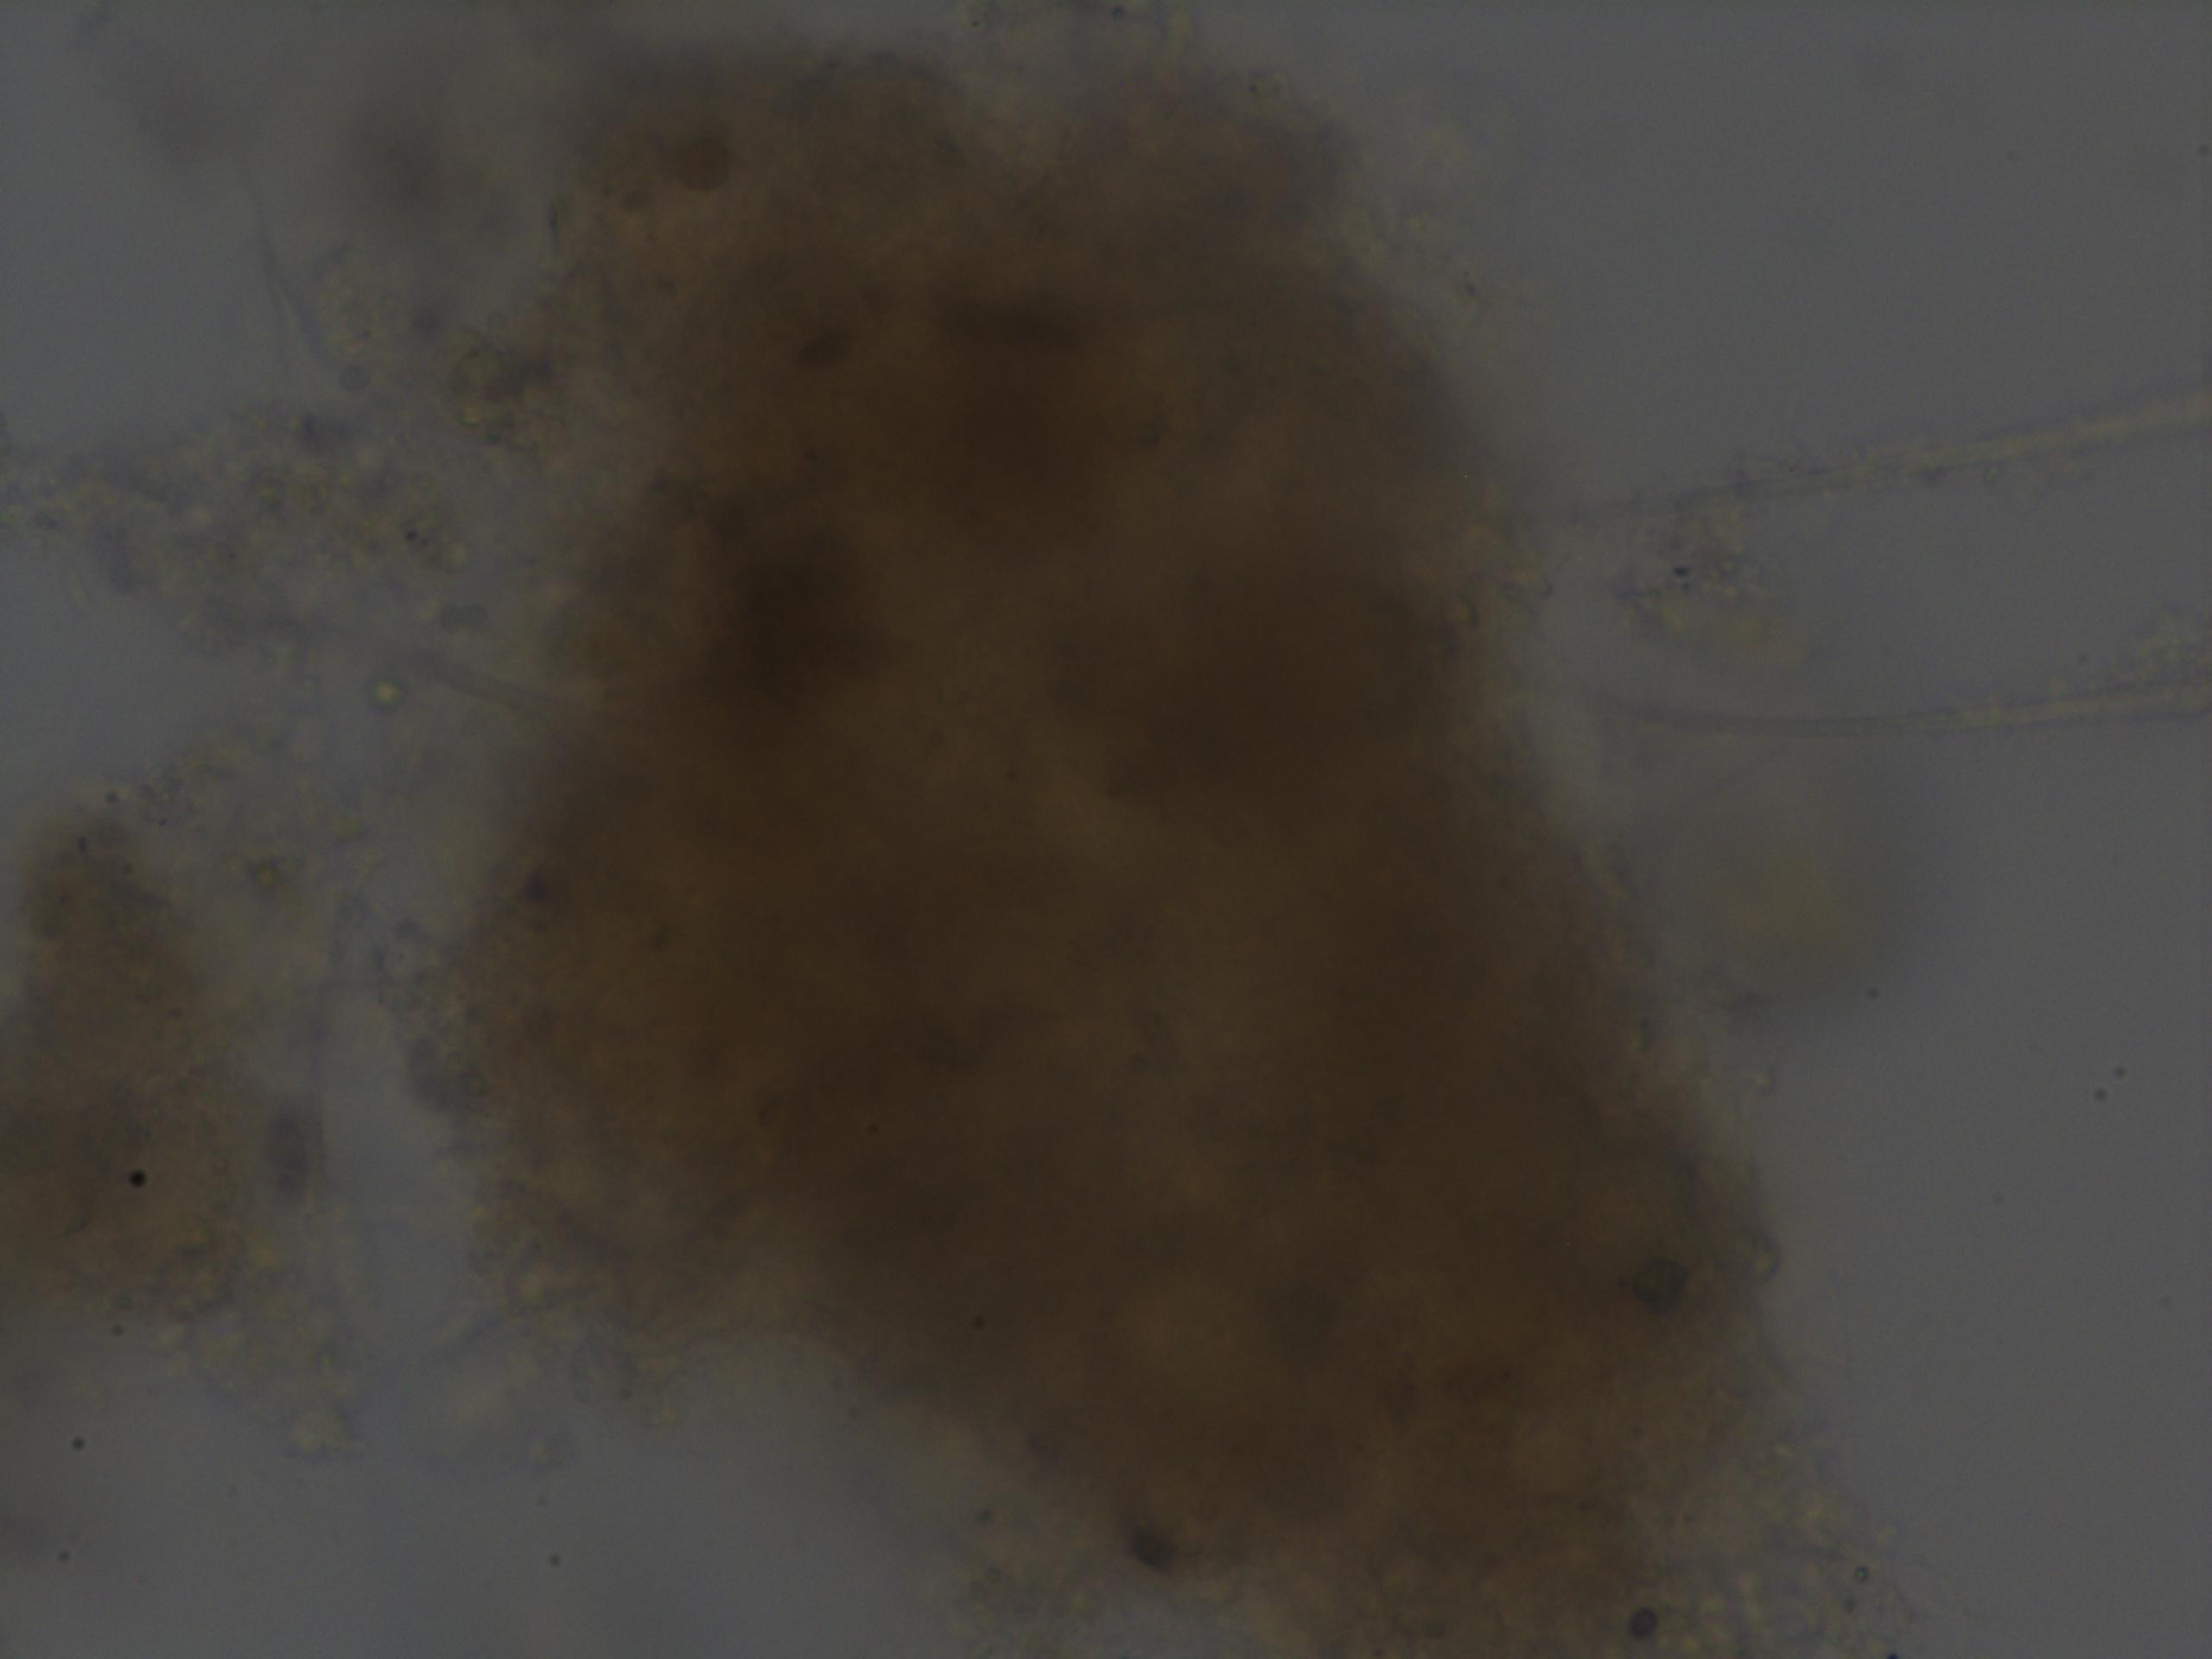filament: (1529, 352, 2212, 545), (1569, 662, 2212, 762)
spherical_floc: (408, 0, 1780, 1659)
